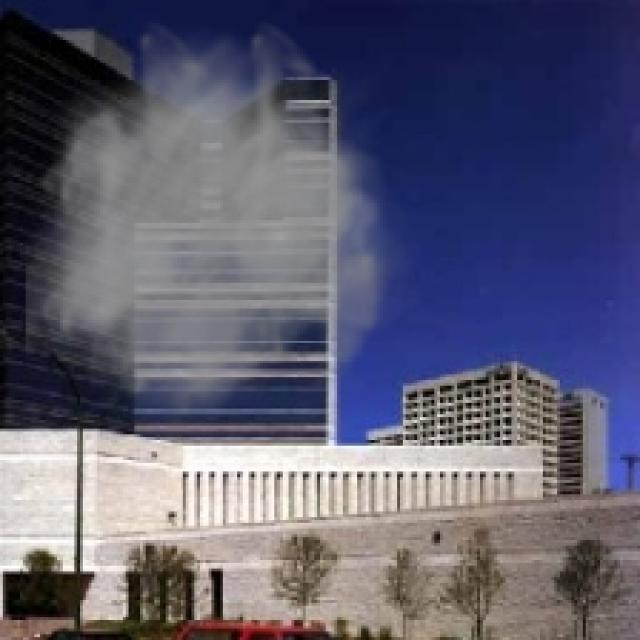smoke: (26, 17, 423, 429)
